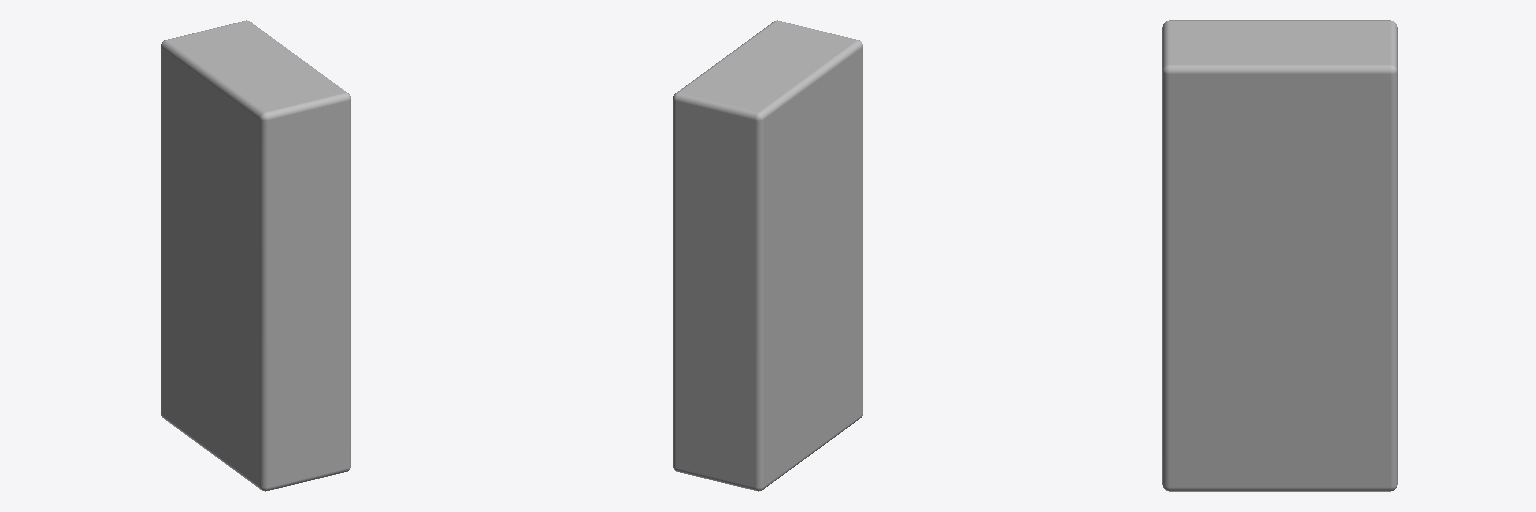
URDF robot description (root):
<robot name="root">
  <link name="link_foundation_convex_piece_0">
    <inertial>
      <origin xyz="0 0 0" rpy="0 0 0"/>
      <mass value="3.81E-01"/>
      <inertia ixx="9.97E-04" ixy="-2.20E-17" ixz="-1.89E-12" iyy="8.48E-04" iyz="-8.01E-14" izz="2.49E-04"/>
    </inertial>
    <visual>
      <origin xyz="0 0 0" rpy="0 0 0"/>
      <geometry>
        <mesh filename="foundation_convex_piece_0.obj" scale="1.0000E+00 1.0000E+00 1.0000E+00"/>
      </geometry>
      <material name="">
        <color rgba="7.50E-01 7.50E-01 7.50E-01 1"/>
      </material>
    </visual>
    <collision>
      <origin xyz="0 0 0" rpy="0 0 0"/>
      <geometry>
        <mesh filename="foundation_convex_piece_0.obj" scale="1.0000E+00 1.0000E+00 1.0000E+00"/>
      </geometry>
    </collision>
  </link>
</robot>

--- Render facts (derived) ---
The picture shows the robot from 3 angles, left to right: view 1: azimuth 30°, elevation 25°; view 2: azimuth 150°, elevation 25°; view 3: azimuth 270°, elevation 25°; orthographic projection.
Model root with 1 links and 0 joints (none), rooted at link_foundation_convex_piece_0, posed every joint at zero.
Visible links, largest first — view 1: link_foundation_convex_piece_0; view 2: link_foundation_convex_piece_0; view 3: link_foundation_convex_piece_0.
Boxes of the visible links, box(x1,y1,x2,y2) form: link_foundation_convex_piece_0: box(161, 20, 350, 491); link_foundation_convex_piece_0: box(673, 20, 862, 491); link_foundation_convex_piece_0: box(1162, 20, 1397, 491).
Bounding box of the posed robot: 0.0397 × 0.0794 × 0.1587 m (x, y, z).
Meshes: 1 distinct files referenced, 1 mesh visuals loaded (1 OBJ).
